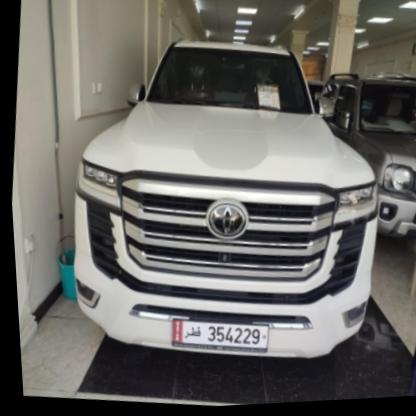np: (165, 313, 272, 361)
